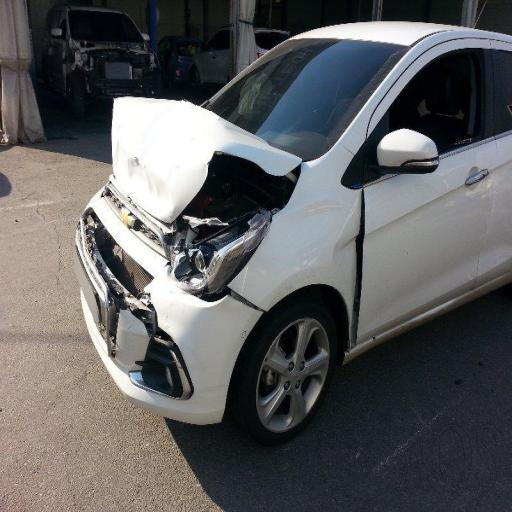broken: (78, 134, 364, 384)
